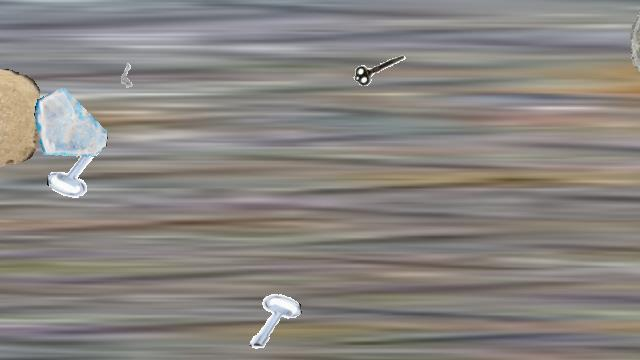glass: (34, 85, 108, 159), (625, 1, 640, 93)
metal: (47, 139, 109, 201), (242, 290, 302, 350), (351, 42, 409, 100), (108, 52, 146, 90)
wood: (0, 67, 39, 189)
